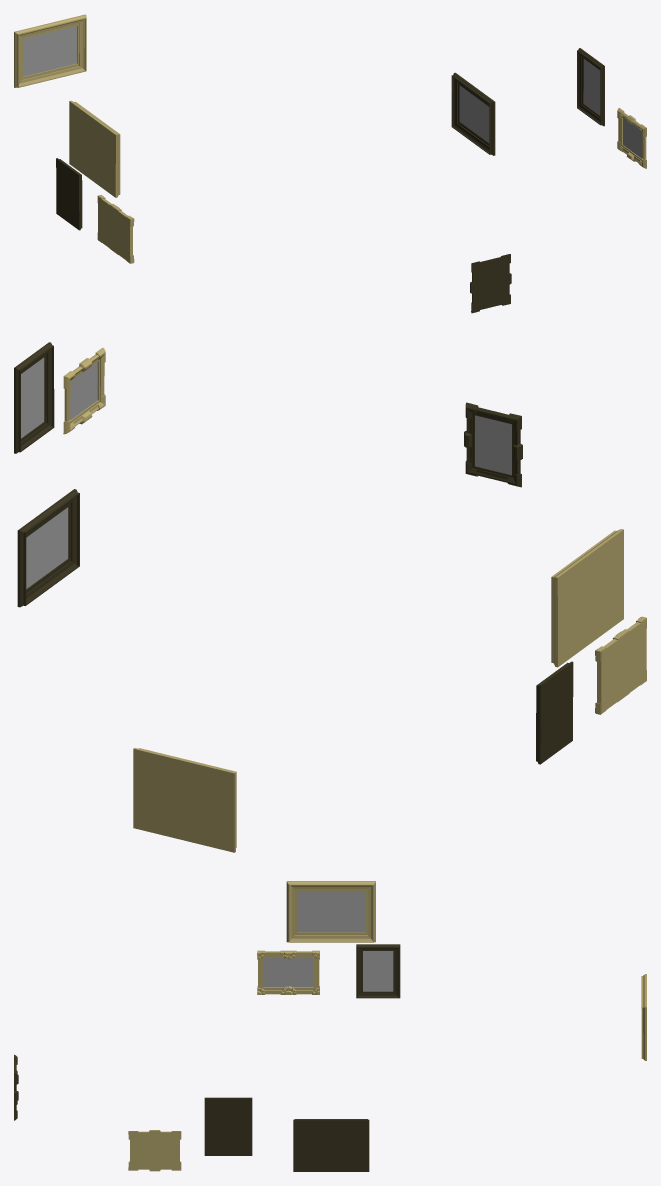
Rendered from indoor.fbx.
3 views of the same model, one above another, from view 1: azimuth 30°, elevation 25°; view 2: azimuth 150°, elevation 25°; view 3: azimuth 270°, elevation 25° (orthographic). The views are drawn at different scales.
Parts seen in each view (by area): view 1: pictureFrame_07, pictureFrame_03, pictureFrame_02, pictureFrame_01, pictureFrame_04, pictureFrame_08, pictureFrame_06, pictureFrame_05; view 2: pictureFrame_07, pictureFrame_03, pictureFrame_02, pictureFrame_01, pictureFrame_04, pictureFrame_08, pictureFrame_06, pictureFrame_05; view 3: pictureFrame_03, pictureFrame_02, pictureFrame_04, pictureFrame_08, pictureFrame_06, pictureFrame_05, pictureFrame_07.
Part boxes in pixels (bbox=[...]): pictureFrame_07: bbox=[14, 14, 86, 87]; pictureFrame_03: bbox=[69, 100, 120, 197]; pictureFrame_02: bbox=[451, 72, 495, 155]; pictureFrame_01: bbox=[470, 254, 511, 313]; pictureFrame_04: bbox=[577, 48, 604, 126]; pictureFrame_08: bbox=[97, 195, 134, 263]; pictureFrame_06: bbox=[56, 158, 82, 230]; pictureFrame_05: bbox=[617, 108, 646, 168]; pictureFrame_07: bbox=[133, 748, 236, 852]; pictureFrame_03: bbox=[551, 529, 623, 667]; pictureFrame_02: bbox=[17, 489, 79, 607]; pictureFrame_01: bbox=[464, 402, 522, 487]; pictureFrame_04: bbox=[14, 342, 54, 453]; pictureFrame_08: bbox=[595, 616, 646, 714]; pictureFrame_06: bbox=[536, 661, 573, 764]; pictureFrame_05: bbox=[63, 347, 105, 434]; pictureFrame_03: bbox=[286, 881, 375, 942]; pictureFrame_02: bbox=[293, 1119, 369, 1171]; pictureFrame_04: bbox=[204, 1097, 252, 1155]; pictureFrame_08: bbox=[257, 950, 319, 994]; pictureFrame_06: bbox=[356, 944, 400, 998]; pictureFrame_05: bbox=[128, 1130, 181, 1171]; pictureFrame_07: bbox=[641, 974, 646, 1060].
Bounding box in the file's own units: 13.34 × 3.59 × 16.96.
